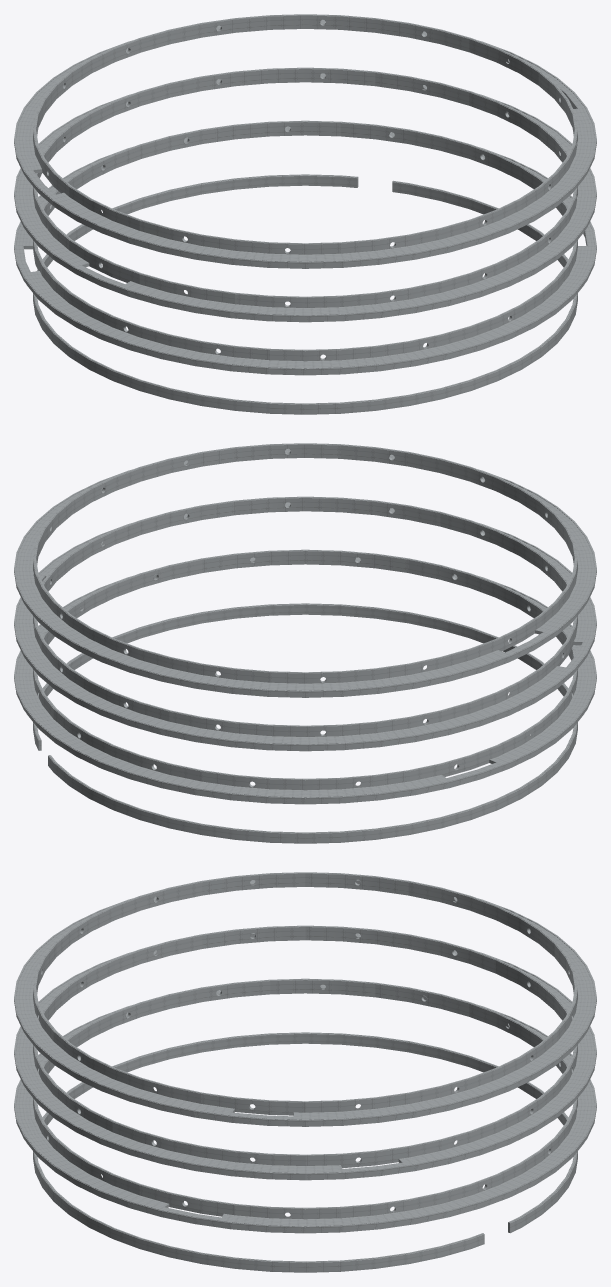
Rendered from field_spring_floor.fbx.
The picture shows the model from 3 angles, top to bottom: view 1: azimuth 30°, elevation 25°; view 2: azimuth 150°, elevation 25°; view 3: azimuth 270°, elevation 25°; orthographic projection.
Parts seen in each view (by area): view 1: field_spring_floor; view 2: field_spring_floor; view 3: field_spring_floor.
Boxes of the visible parts, <box> form: field_spring_floor: <box>14,14,596,414</box>; field_spring_floor: <box>14,443,596,843</box>; field_spring_floor: <box>14,872,596,1272</box>.
Bounding box in the file's own units: 7379 × 2380 × 7379.
Materials: 1 (1 with a texture image).
